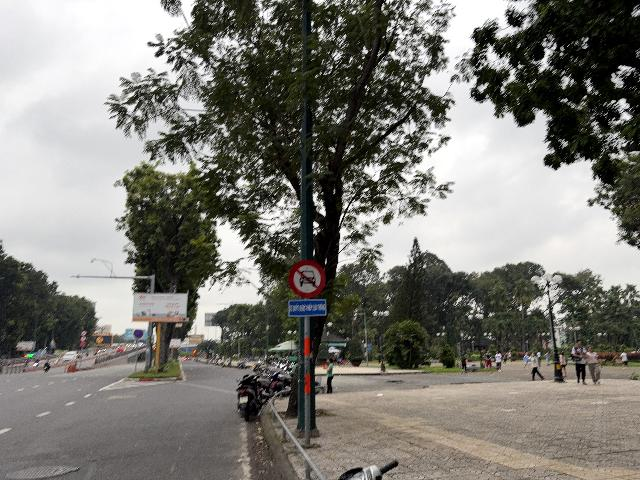cam-o-to: (288, 260, 326, 298)
